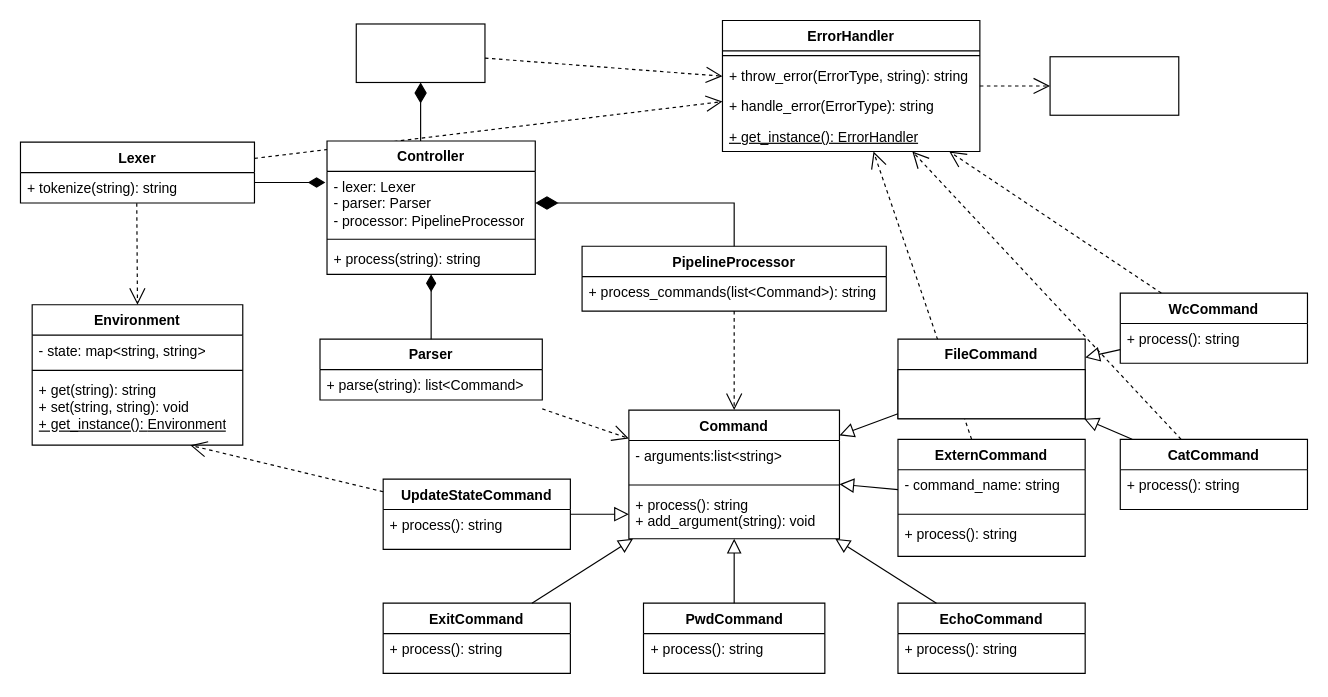
Some shapes in this 1328 by 697 pixel diagram are drawn without their labels. The centre of each missing label's shape, as x and y in pixels:
# read_file(string): string # is_file_exists( string ): bool: the point at 991,393
CLI: the point at 420,52
Enum ErrorType: the point at 1114,85
